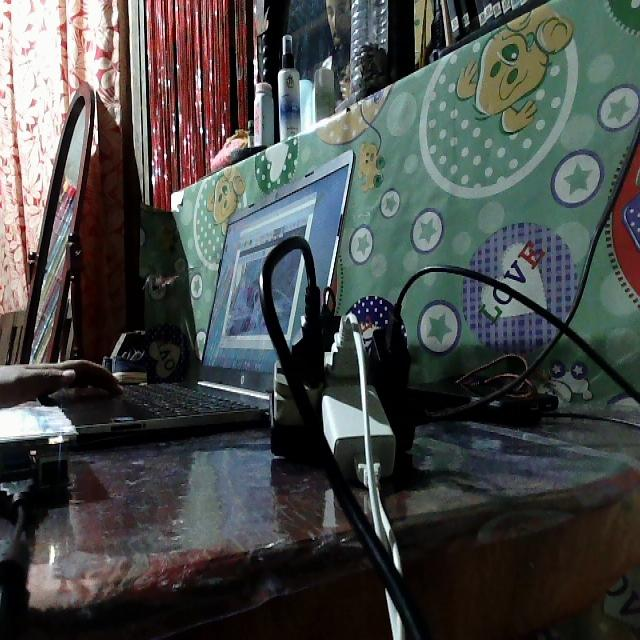-: (273, 280, 416, 489)
